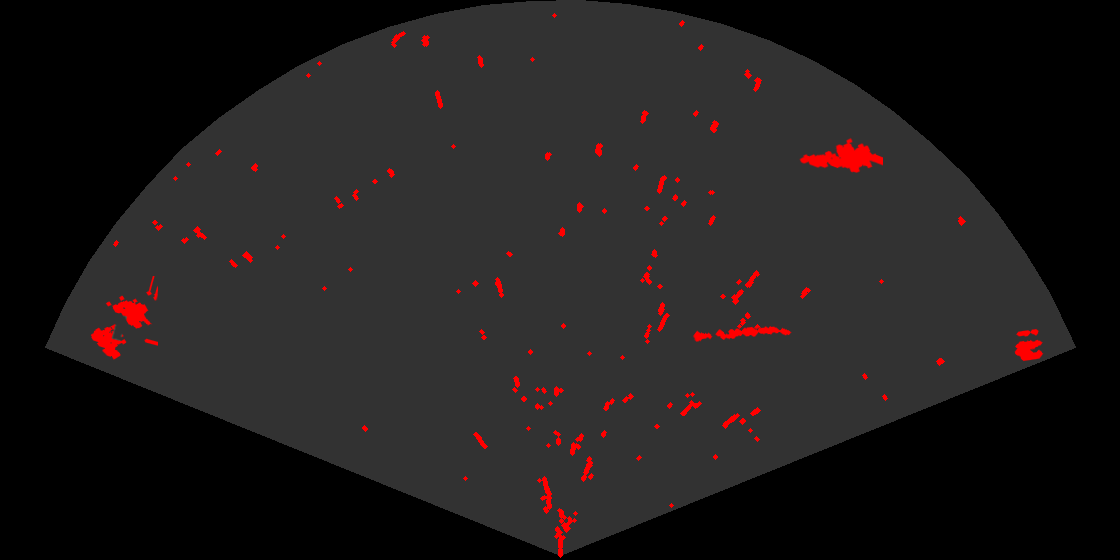ball: (1013, 327, 1045, 363)
cage: (89, 276, 158, 361)
chain: (691, 324, 792, 343)
frogman: (798, 136, 883, 174)
